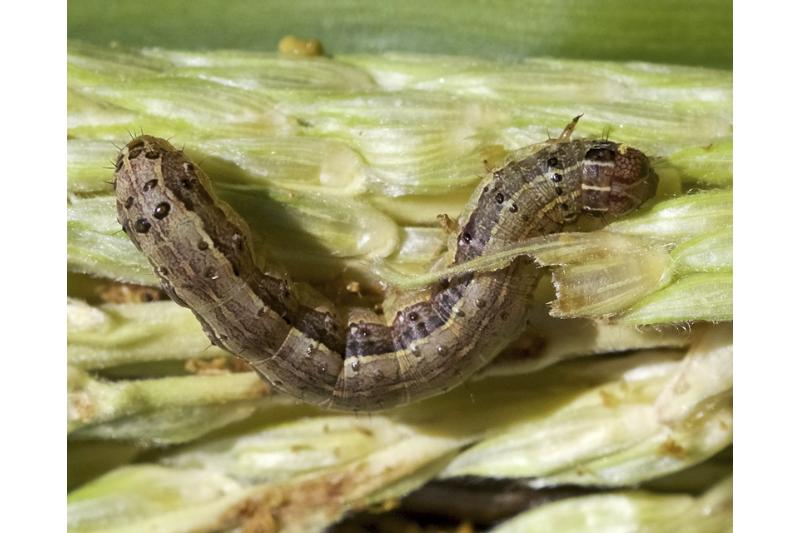fall-armyworm: (114, 116, 660, 415)
